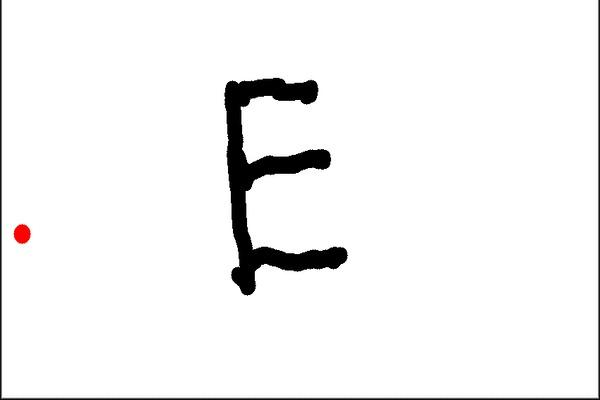E: (217, 73, 357, 296)
